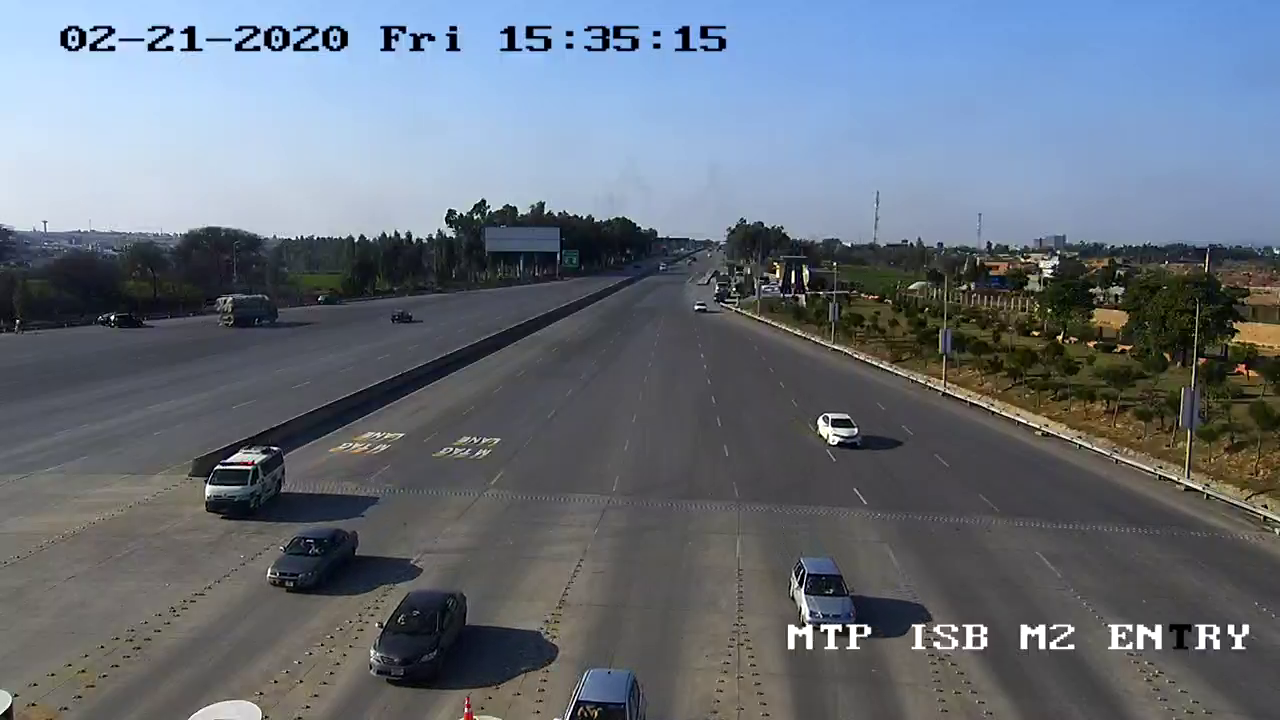f1: (354, 583, 474, 691), (254, 520, 366, 601), (785, 548, 861, 637), (803, 408, 868, 458)
f2: (194, 437, 295, 523)
